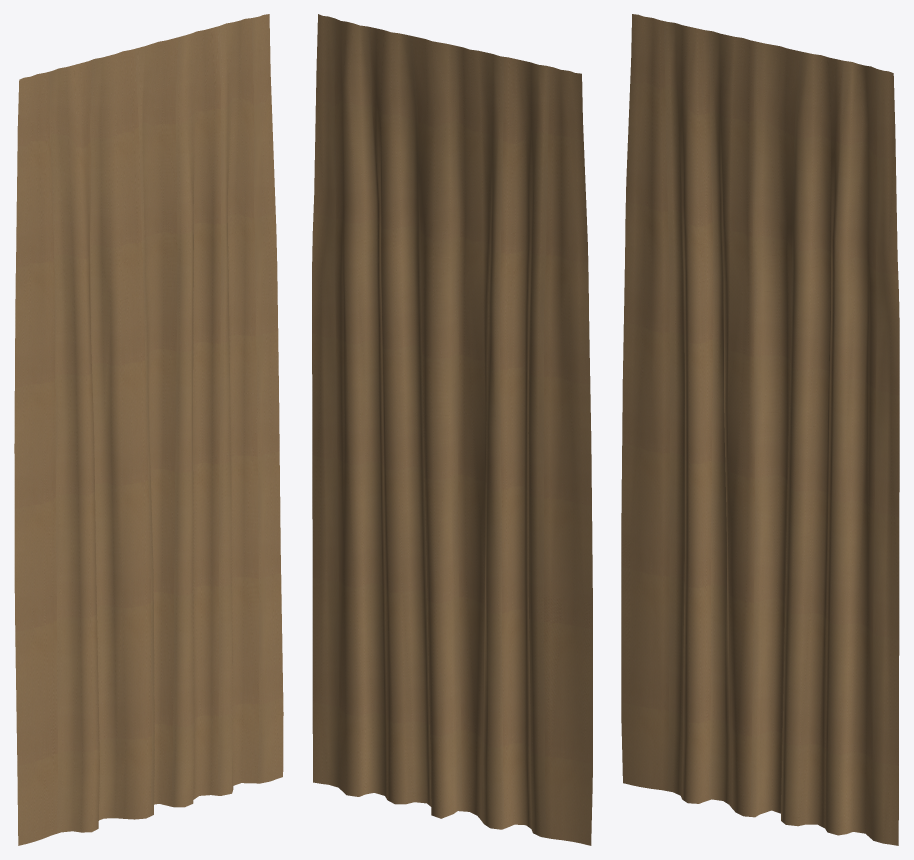
File: curtain_02.gltf
3 renders of one model, left to right at view 1: azimuth 30°, elevation 25°; view 2: azimuth 150°, elevation 25°; view 3: azimuth 330°, elevation 25°, orthographic.
Parts seen in each view (by area): view 1: curtain_02; view 2: curtain_02; view 3: curtain_02.
Boxes of the visible parts, box(x1,y1,x2,y2) form: curtain_02: box(14, 14, 283, 845); curtain_02: box(312, 14, 592, 845); curtain_02: box(621, 14, 899, 845).
Bounding box in the file's own units: 1.3 × 3.47 × 0.1447.
Materials: 1 (1 with a texture image).
